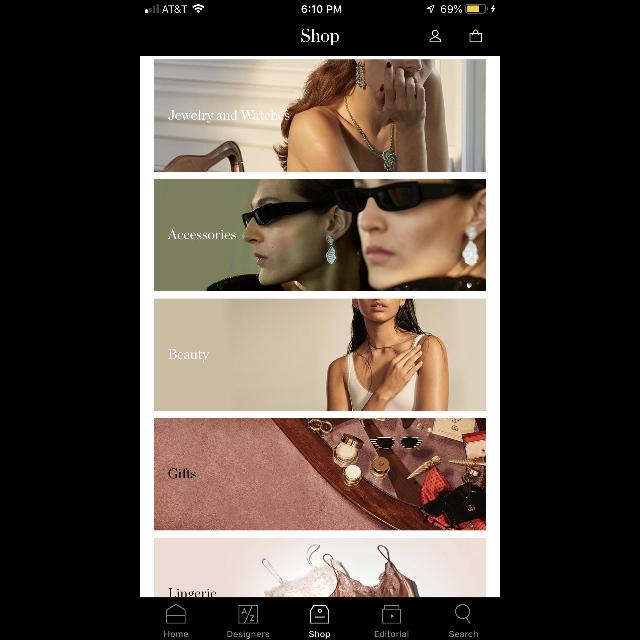icon: (382, 605, 402, 623), (456, 604, 470, 624), (470, 30, 482, 42), (430, 30, 440, 42)
image: (154, 418, 486, 530), (154, 299, 486, 411), (154, 179, 486, 291), (154, 60, 486, 172), (154, 538, 486, 596), (166, 604, 186, 624), (238, 605, 258, 623), (310, 605, 330, 623)
text: (168, 110, 290, 124), (168, 228, 236, 240), (301, 28, 339, 46), (168, 348, 210, 362), (169, 588, 217, 596), (227, 631, 269, 639), (168, 468, 196, 478), (375, 630, 409, 638), (449, 631, 477, 637), (310, 630, 330, 638), (164, 631, 188, 637)
uppertaskbar: (140, 1, 500, 15)
